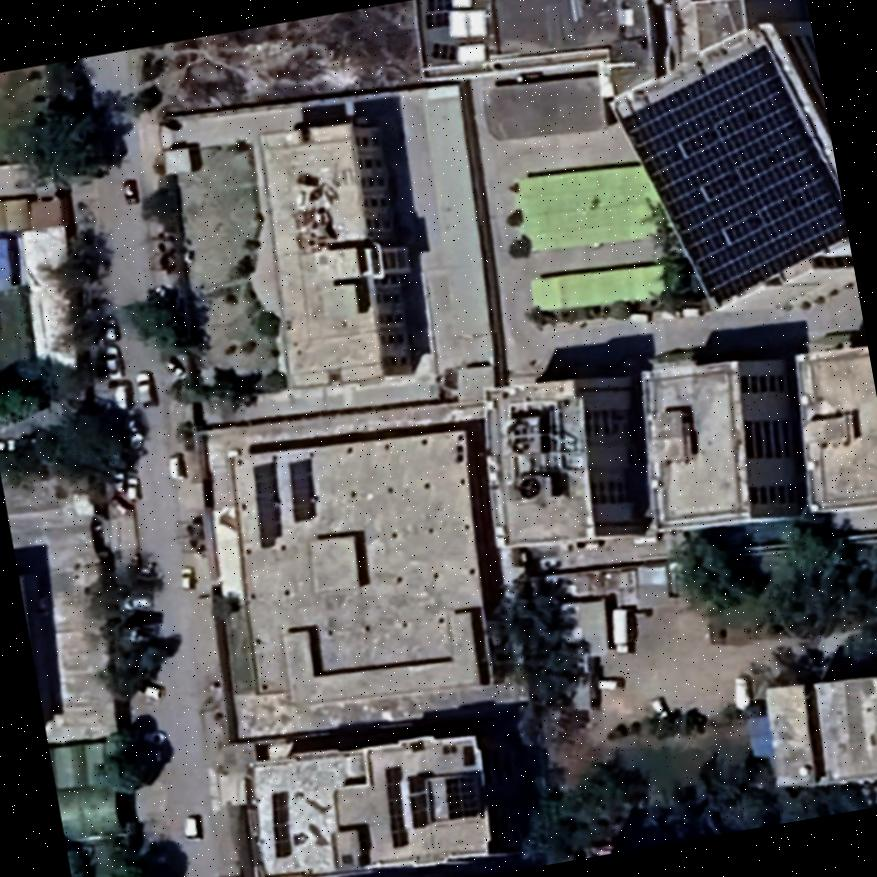Solarpanel: (612, 35, 846, 315), (251, 453, 285, 551), (380, 757, 412, 854), (286, 453, 324, 527), (441, 765, 489, 822), (269, 783, 297, 865), (406, 763, 435, 836)
